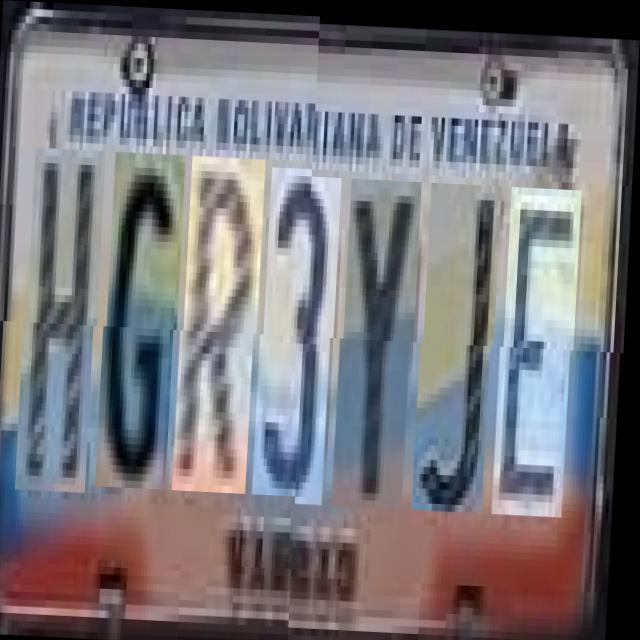3: (260, 172, 344, 502)
E: (501, 181, 584, 511)
G: (104, 158, 188, 495)
H: (23, 154, 108, 499)
J: (421, 178, 504, 508)
R: (180, 161, 267, 498)
Y: (341, 175, 424, 504)
